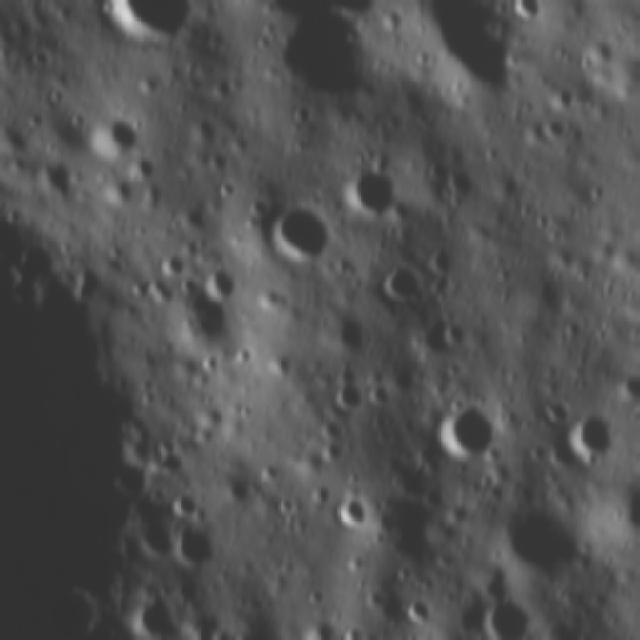crater: (258, 5, 389, 123), (399, 0, 523, 102), (488, 491, 594, 583), (168, 277, 252, 360), (264, 193, 345, 269), (98, 0, 208, 54), (430, 392, 508, 468), (343, 161, 403, 228), (566, 413, 628, 472), (168, 518, 235, 572), (125, 587, 192, 640), (404, 312, 470, 365), (79, 106, 146, 157), (472, 591, 538, 640), (31, 152, 83, 206), (318, 300, 369, 355), (106, 454, 154, 508), (331, 488, 378, 537), (373, 257, 425, 300), (329, 376, 380, 418), (382, 352, 427, 398), (260, 343, 306, 386), (68, 254, 106, 303), (201, 264, 245, 304), (533, 389, 575, 428), (315, 414, 356, 451), (404, 594, 441, 632), (445, 168, 483, 204), (107, 175, 144, 211), (540, 110, 577, 144), (425, 244, 461, 278), (299, 612, 341, 640), (170, 484, 204, 516), (548, 82, 578, 118), (157, 245, 189, 278), (318, 440, 352, 468), (125, 272, 153, 305), (134, 154, 163, 183), (274, 492, 306, 518), (426, 158, 452, 184), (26, 109, 48, 138)
